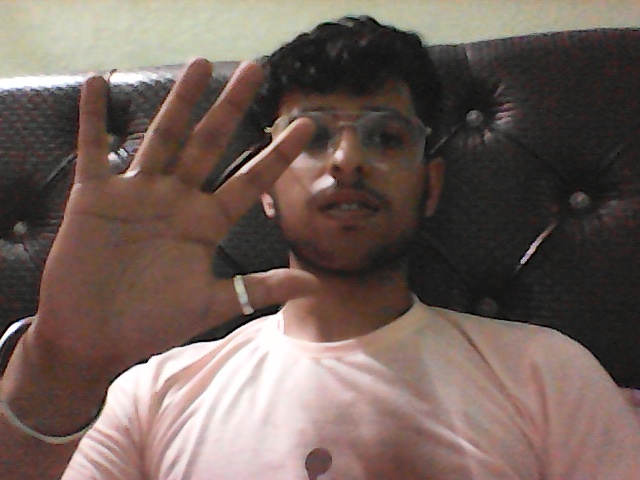hello: (32, 37, 314, 405)
